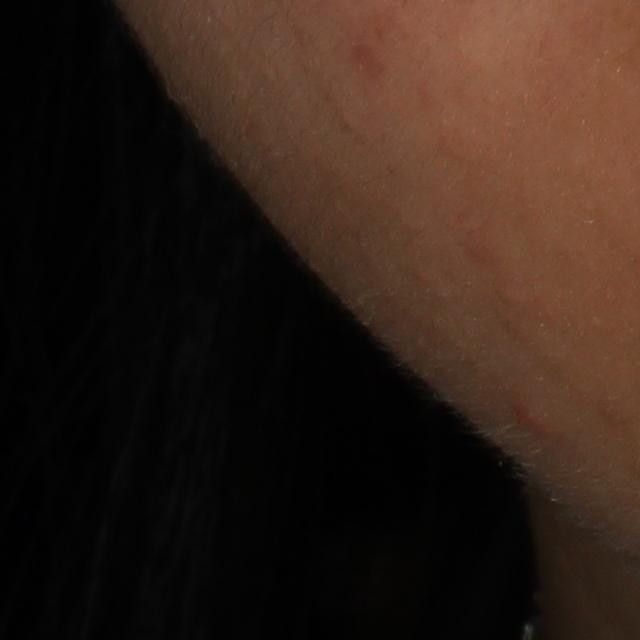papule: (509, 399, 555, 441)
